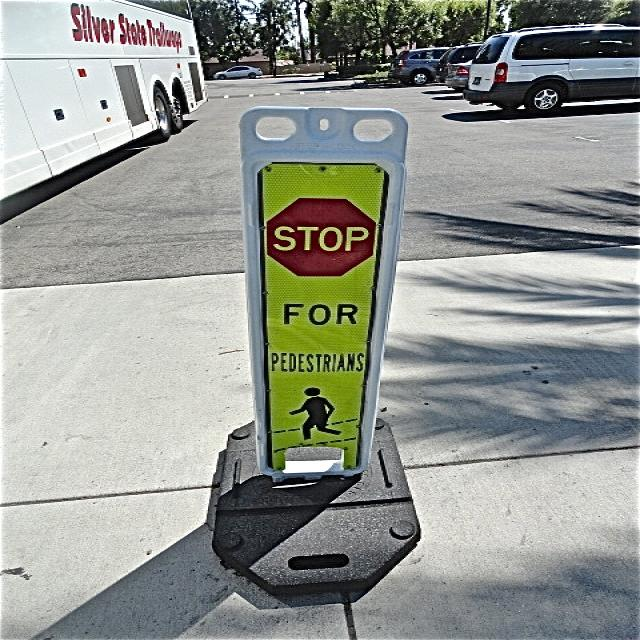Vehicle: (2, 4, 215, 203), (464, 24, 640, 112), (390, 49, 452, 87), (446, 61, 470, 92), (212, 66, 262, 80)
